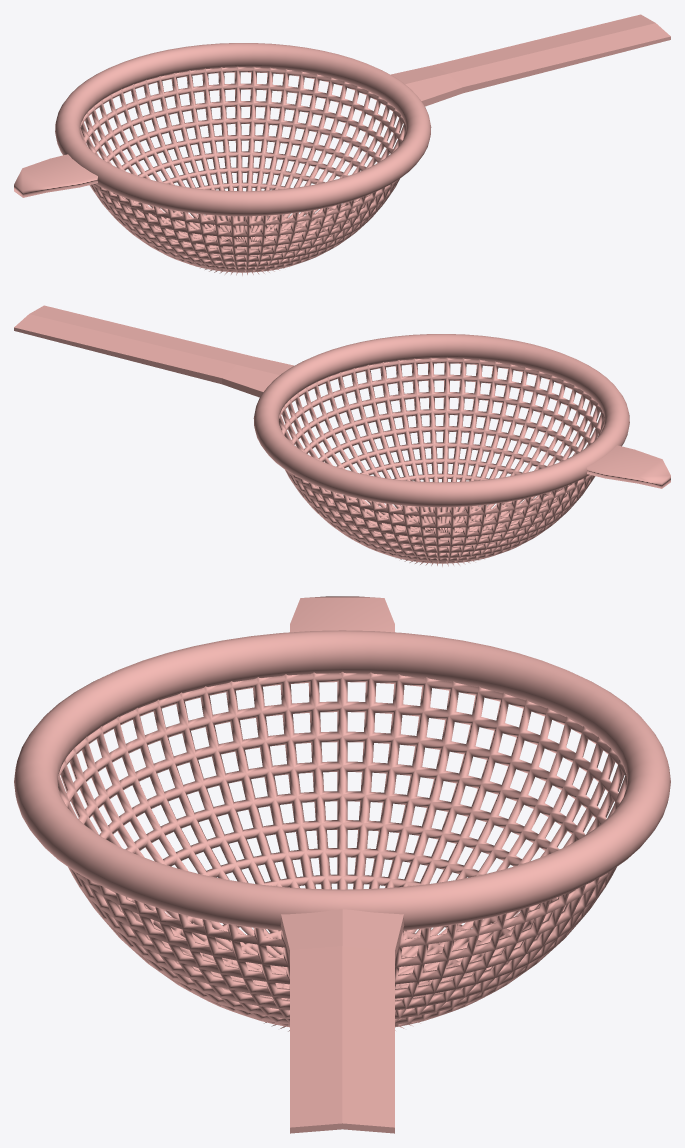
Rendered from sieve.glb.
3 views of the same model, one above another, from view 1: azimuth 30°, elevation 25°; view 2: azimuth 150°, elevation 25°; view 3: azimuth 270°, elevation 25° (orthographic). The views are drawn at different scales.
Visible parts, largest first — view 1: Sphere, Torus.005, Cube, Cube.001; view 2: Sphere, Torus.005, Cube, Cube.001; view 3: Sphere, Torus.005, Cube, Cube.001.
Boxes of the visible parts, <box> form: Sphere: <box>80,66,405,275</box>; Torus.005: <box>55,43,431,216</box>; Cube: <box>391,14,670,106</box>; Cube.001: <box>14,154,97,197</box>; Sphere: <box>279,357,604,566</box>; Torus.005: <box>253,334,629,507</box>; Cube: <box>14,305,293,397</box>; Cube.001: <box>587,445,670,488</box>; Sphere: <box>58,672,626,1031</box>; Torus.005: <box>14,630,670,930</box>; Cube: <box>280,909,404,1133</box>; Cube.001: <box>290,596,394,632</box>.
Size of the model in its own units: 0.1467 by 0.0303 by 0.075.
